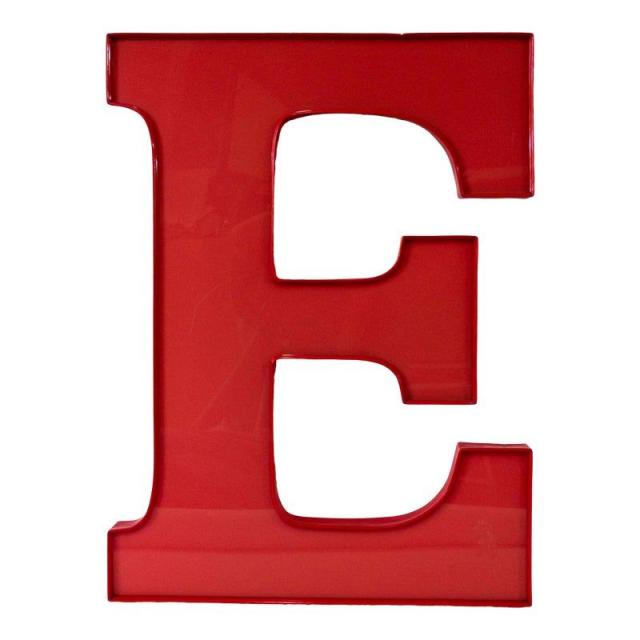E: (41, 14, 585, 623)
